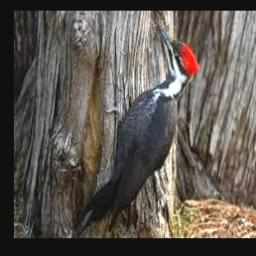Woodpecker: (77, 21, 201, 236)
